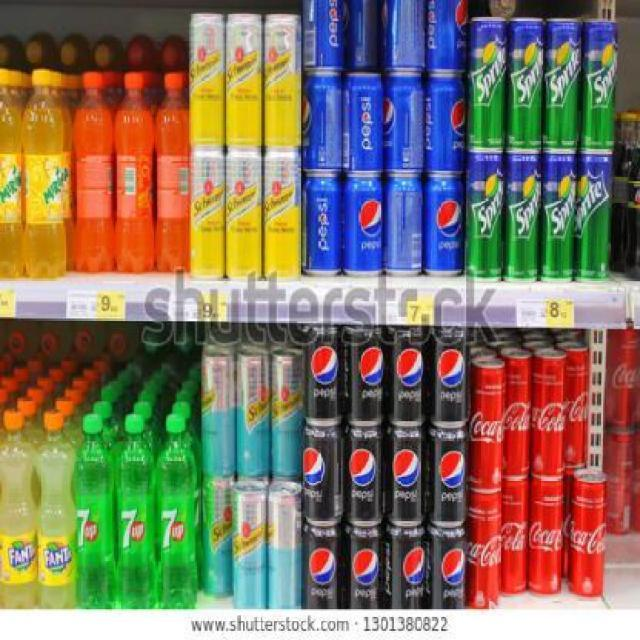Drinks: (35, 410, 75, 608), (75, 415, 115, 611), (155, 414, 195, 610), (114, 414, 154, 610), (0, 410, 35, 610), (469, 17, 509, 153), (466, 152, 506, 283), (468, 355, 506, 492), (508, 18, 546, 154), (545, 16, 583, 152), (583, 17, 620, 153), (571, 470, 609, 599), (576, 152, 613, 284), (506, 153, 543, 284), (541, 152, 577, 284), (532, 347, 568, 479), (387, 325, 431, 427), (343, 325, 387, 427), (343, 73, 386, 176), (424, 74, 467, 176), (530, 479, 566, 599), (302, 428, 346, 526), (301, 73, 344, 173), (301, 175, 343, 277), (343, 176, 385, 278), (302, 325, 344, 427), (389, 428, 432, 526), (386, 74, 426, 177), (346, 428, 388, 526), (423, 176, 463, 278), (431, 426, 469, 528), (385, 176, 423, 276), (431, 327, 468, 429), (469, 493, 501, 610), (505, 348, 533, 480), (383, 527, 426, 610), (426, 527, 469, 610), (502, 481, 530, 599), (303, 528, 343, 610), (343, 527, 383, 609), (303, 0, 349, 71), (425, 0, 469, 74), (380, 0, 424, 71)
